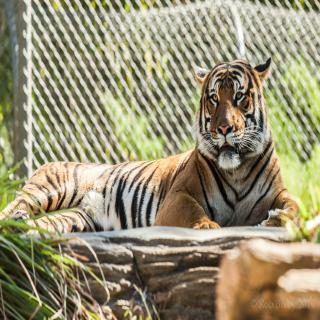Tiger: (0, 55, 299, 227)
